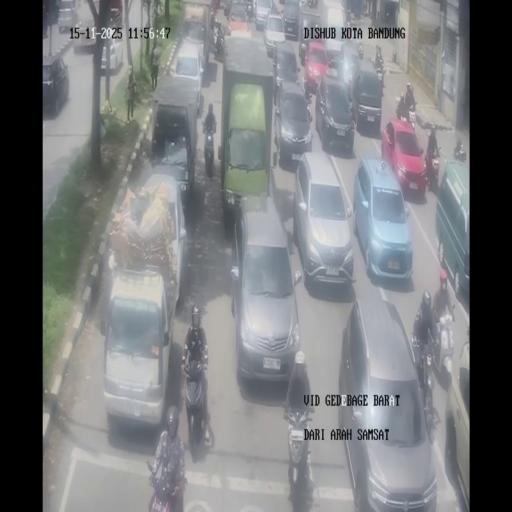car: (231, 197, 299, 383), (101, 268, 174, 431), (293, 149, 355, 290), (354, 154, 413, 284), (134, 175, 188, 307), (435, 161, 470, 297), (151, 100, 195, 196), (274, 81, 312, 170), (315, 74, 355, 155), (172, 41, 206, 110), (42, 54, 69, 117), (304, 40, 330, 94), (264, 10, 287, 54), (227, 1, 251, 36), (181, 17, 207, 49), (282, 0, 300, 39), (57, 1, 78, 33), (325, 37, 344, 72), (254, 0, 272, 23)
motorcycle: (283, 400, 316, 505), (182, 356, 210, 457), (411, 335, 438, 438), (145, 455, 185, 511), (434, 306, 456, 381), (424, 146, 440, 191), (202, 126, 216, 176), (213, 25, 224, 60), (375, 57, 385, 89), (454, 136, 466, 162), (208, 3, 218, 34), (396, 97, 408, 121), (406, 104, 416, 129), (299, 37, 307, 66), (342, 5, 352, 25), (152, 0, 162, 16), (360, 1, 368, 16), (358, 41, 364, 59), (308, 0, 316, 9)
truck: (219, 36, 276, 228), (73, 0, 121, 61), (340, 42, 362, 94)
